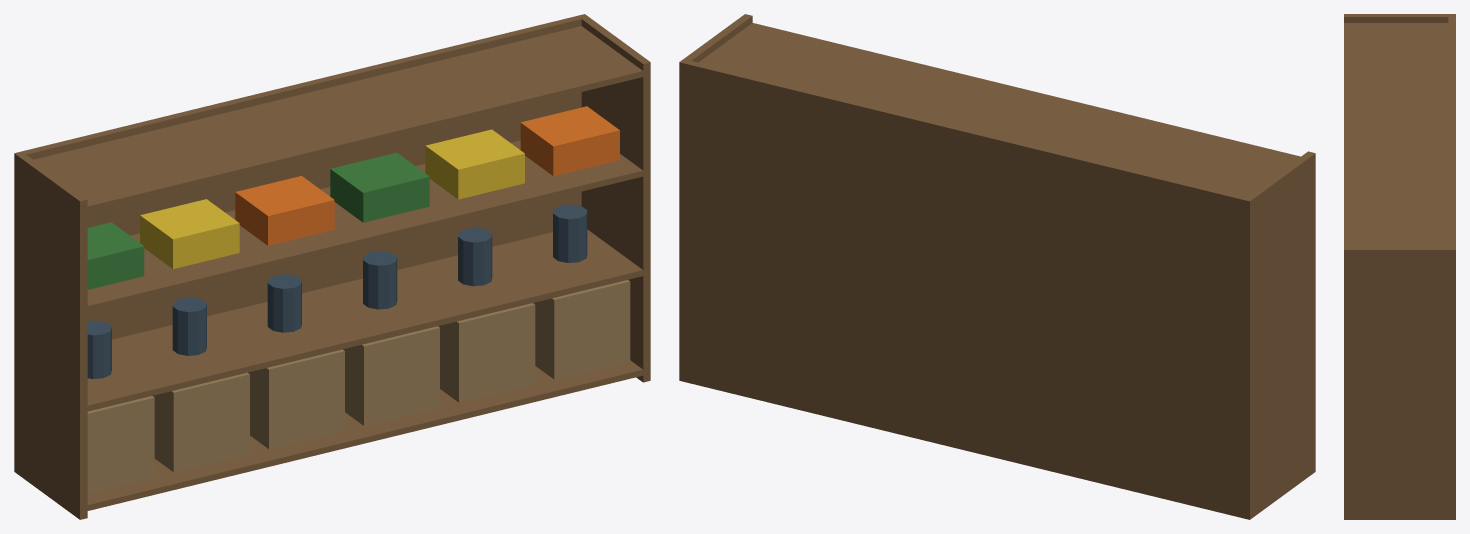
The model's file is seed shelf.glb.
3 views of the same model, side by side, from view 1: azimuth 30°, elevation 25°; view 2: azimuth 150°, elevation 25°; view 3: azimuth 270°, elevation 25° (orthographic). The views are drawn at different scales.
Visible parts, largest first — view 1: seed shelf; view 2: seed shelf; view 3: seed shelf.
Boxes of the visible parts, left/top/right/bottom form: seed shelf: left=14, top=14, right=650, bottom=519; seed shelf: left=679, top=14, right=1315, bottom=519; seed shelf: left=1344, top=14, right=1455, bottom=519.
Size of the model in its own units: 3 by 1.6 by 0.6.
